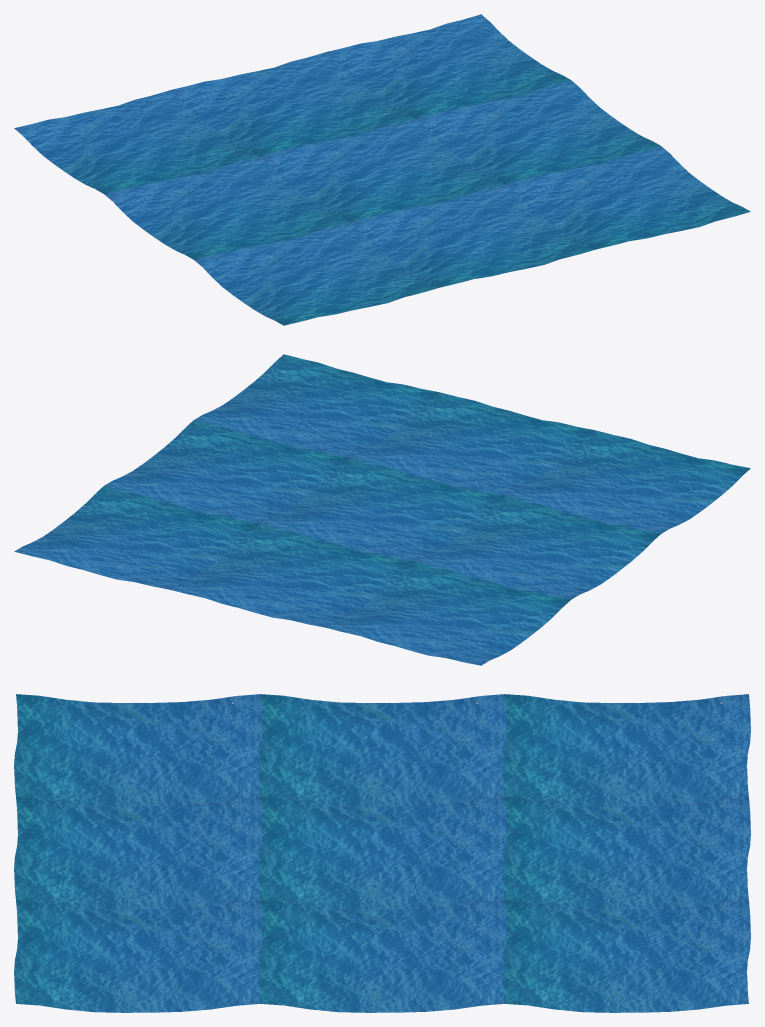
Rendered from ocean_000019.obj.
3 views of the same model, one above another, from view 1: azimuth 30°, elevation 25°; view 2: azimuth 150°, elevation 25°; view 3: azimuth 270°, elevation 25° (orthographic). The views are drawn at different scales.
Visible parts, largest first — view 1: Ocean_Plan.001; view 2: Ocean_Plan.001; view 3: Ocean_Plan.001.
Boxes of the visible parts, <box> form: Ocean_Plan.001: <box>14,14,750,325</box>; Ocean_Plan.001: <box>14,354,750,665</box>; Ocean_Plan.001: <box>14,694,750,1012</box>.
Size of the model in its own units: 109101 by 1502 by 109564.
Materials: 1 (1 with a texture image).
